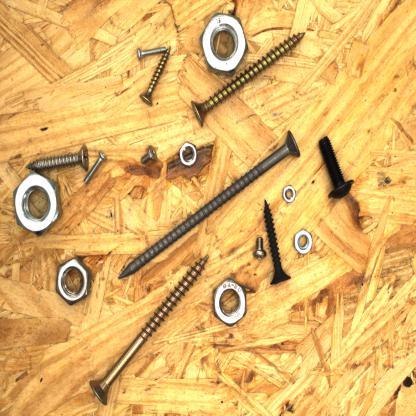screw: (116, 126, 304, 282), (85, 251, 211, 408), (189, 28, 309, 129), (315, 132, 358, 203), (260, 197, 293, 288), (24, 138, 91, 180), (138, 44, 174, 110), (81, 148, 109, 190), (136, 140, 159, 168), (135, 45, 169, 63), (252, 233, 269, 263)
